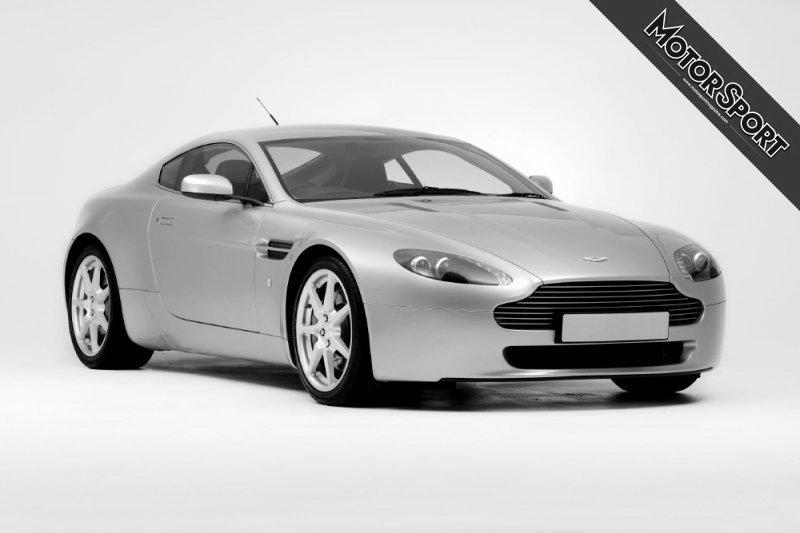car: (60, 91, 727, 405)
